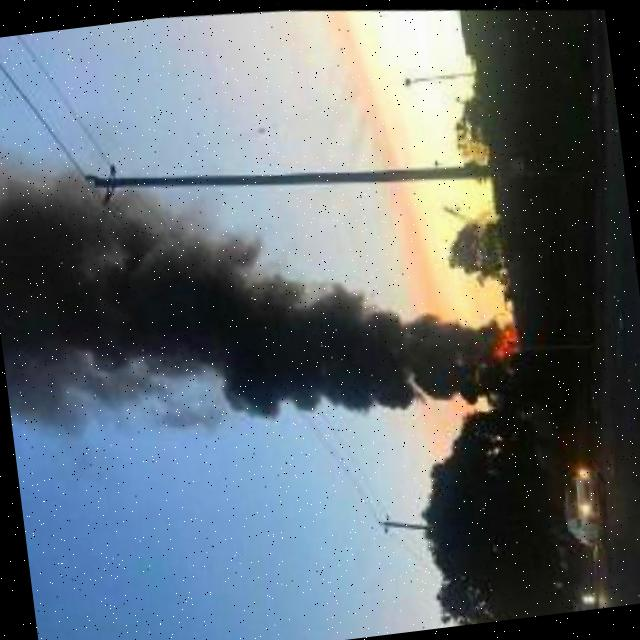fire: (479, 306, 521, 366)
